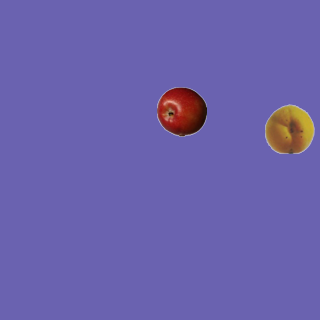Apple Braeburn: (156, 86, 206, 136)
Peach 2: (264, 103, 314, 153)
